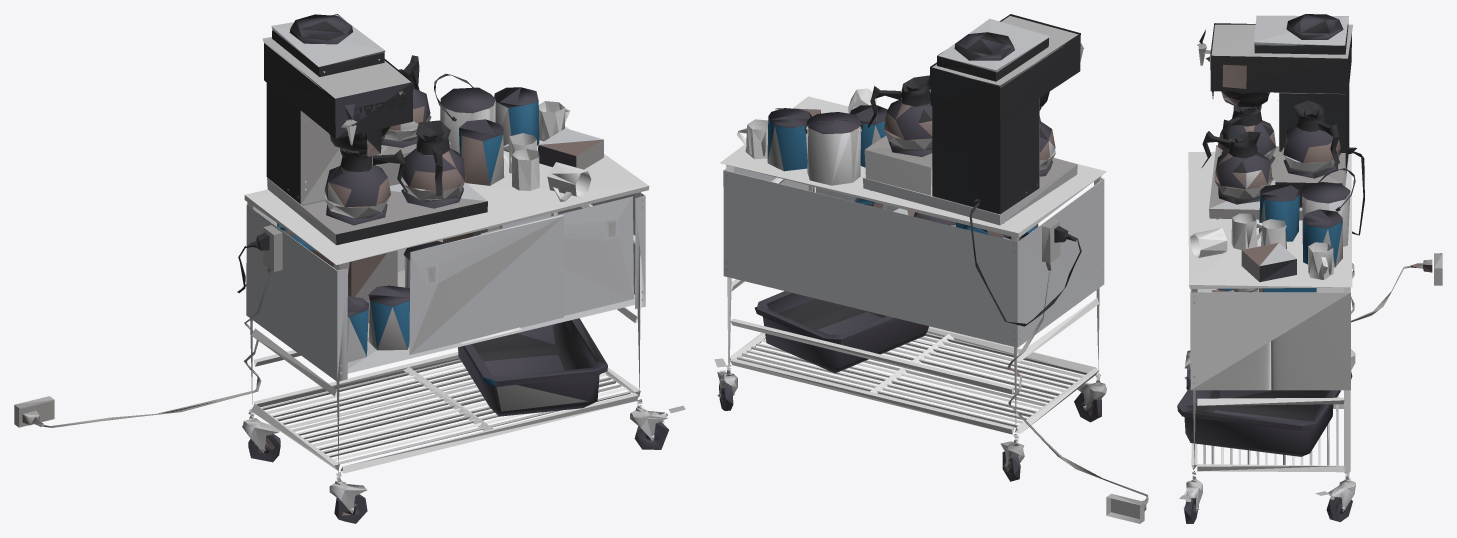
Rendered from coffee-cart.glb.
The picture shows the model from 3 angles, left to right: view 1: azimuth 30°, elevation 25°; view 2: azimuth 150°, elevation 25°; view 3: azimuth 270°, elevation 25°; orthographic projection. The views are drawn at different scales.
Parts seen in each view (by area): view 1: coffee-cart; view 2: coffee-cart; view 3: coffee-cart.
Part boxes in pixels (x1,y1,x2,y2): coffee-cart: (14, 14, 685, 523); coffee-cart: (714, 14, 1148, 523); coffee-cart: (1177, 14, 1442, 523).
Size of the model in its own units: 2.17 by 1.72 by 1.07.
